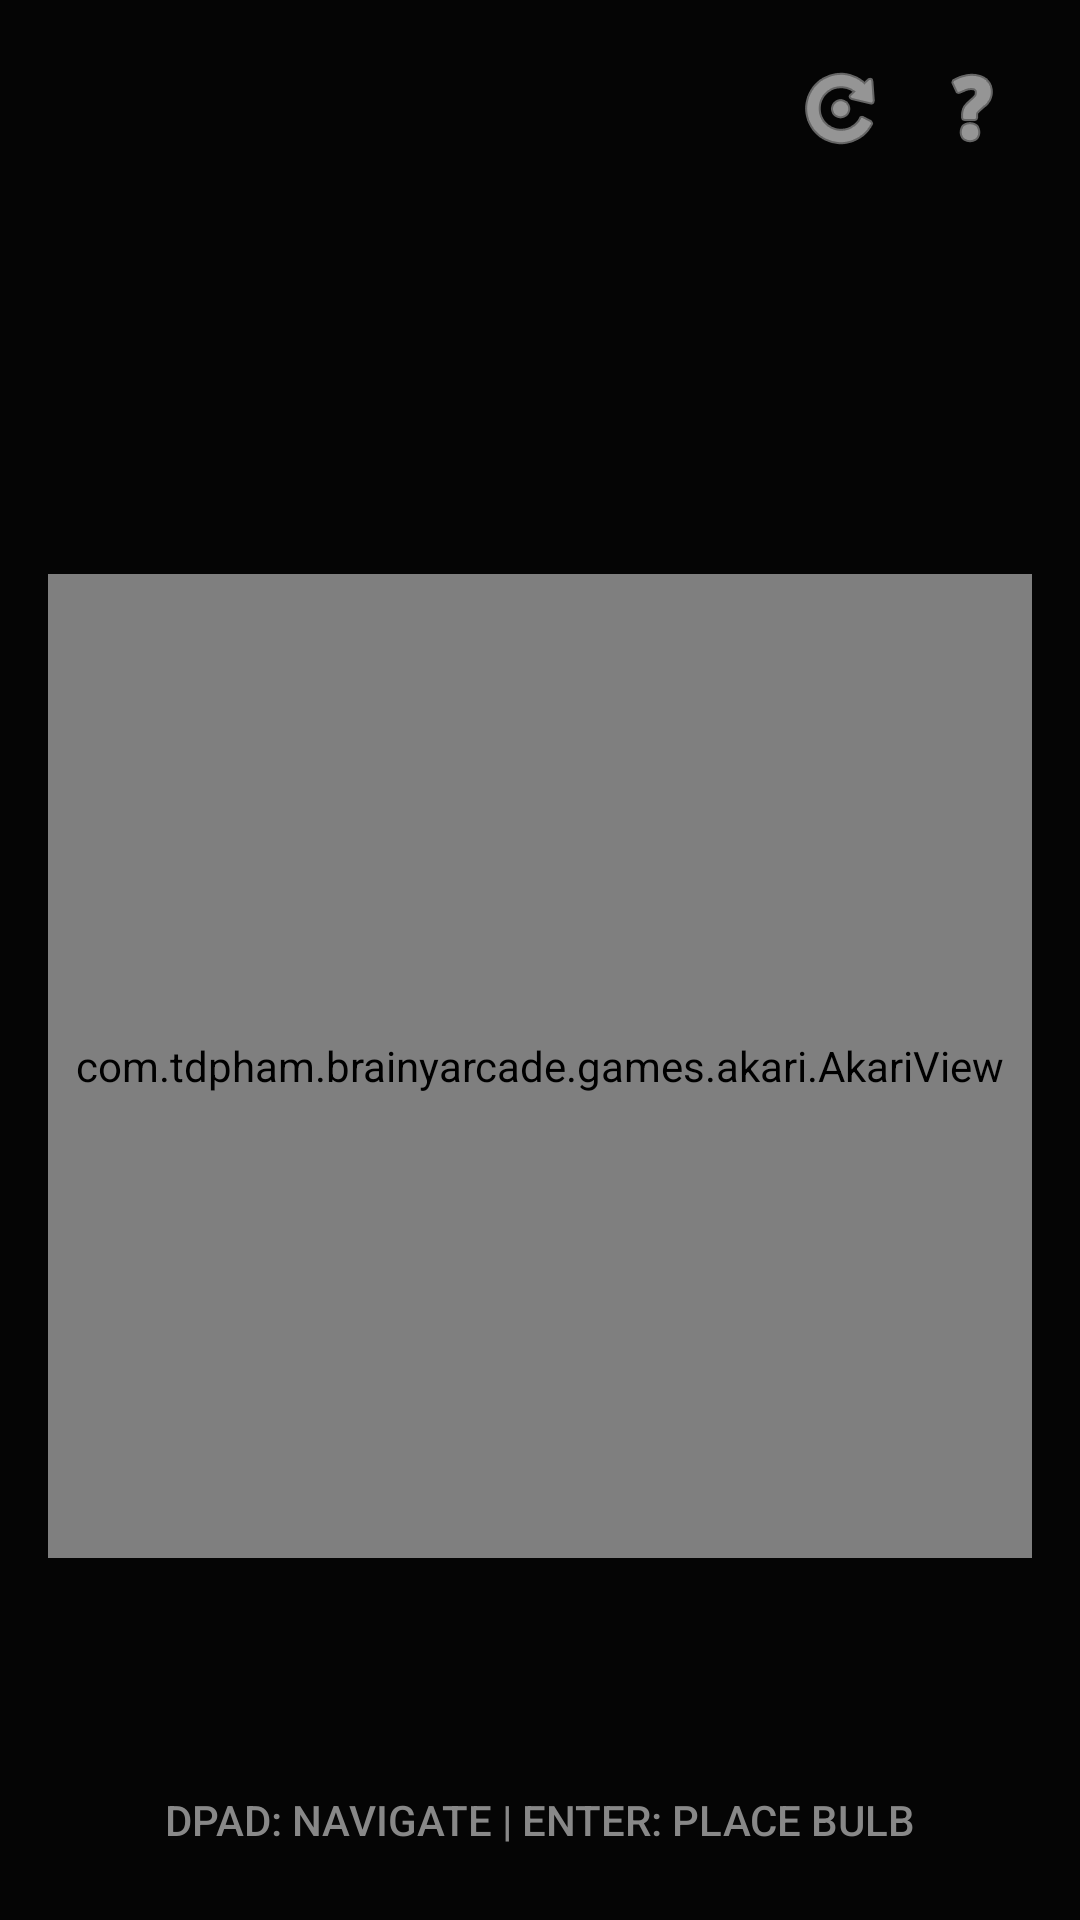

Named icons in this screenshot (1080×1920) and their bounding boxes, {"x1": x1, "y1": y1, "x2": x2, "y2": y2}:
How to Play: {"x1": 951, "y1": 74, "x2": 993, "y2": 142}
New Game: {"x1": 805, "y1": 73, "x2": 875, "y2": 144}
